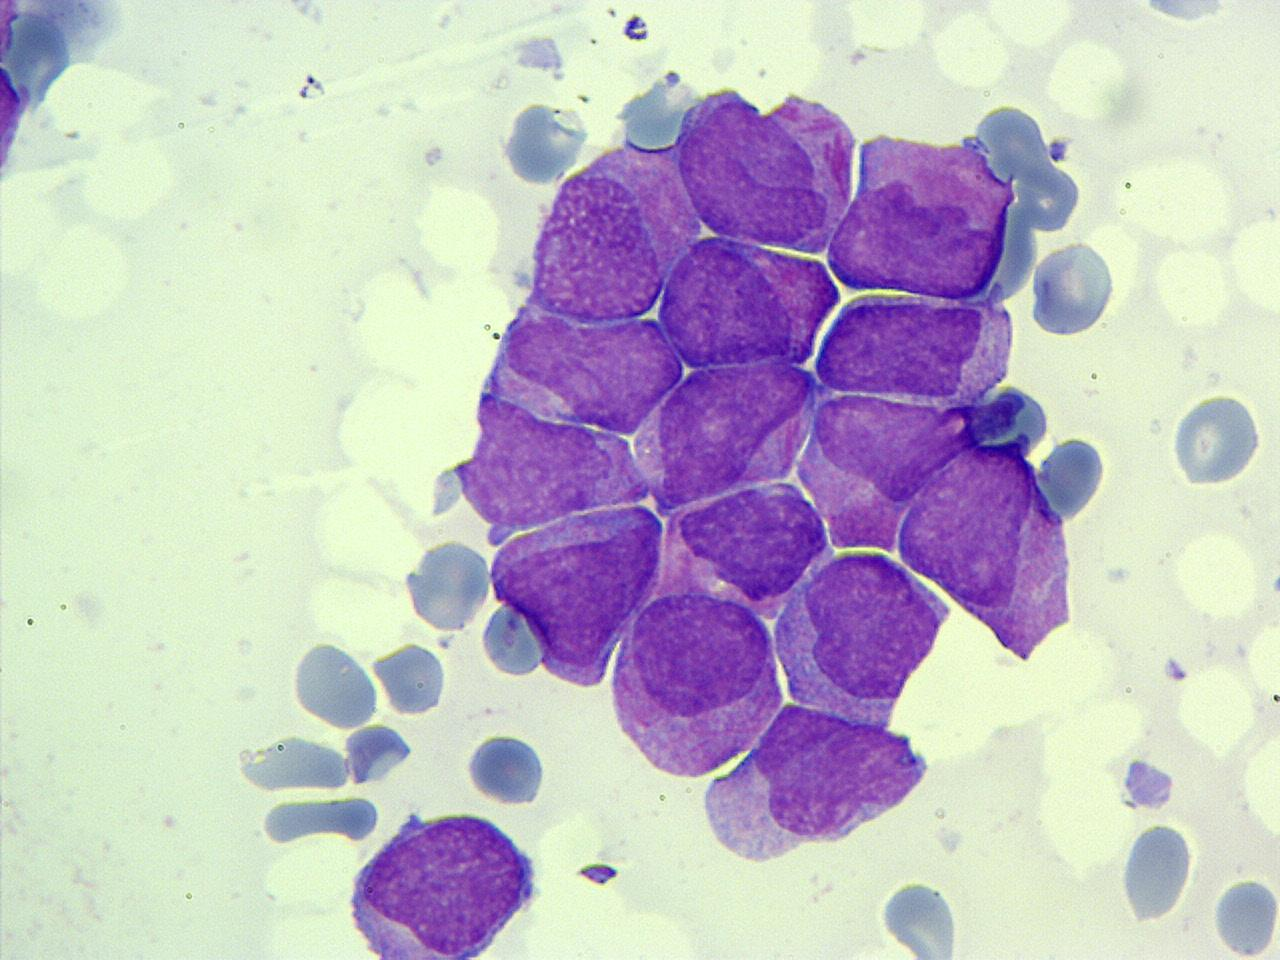Platelets: (876, 878, 962, 958), (1209, 874, 1277, 960), (1113, 754, 1177, 814), (506, 31, 566, 74), (1134, 1, 1234, 25), (574, 860, 620, 886), (1161, 654, 1189, 686), (1048, 136, 1072, 164), (1268, 570, 1280, 596)
RBC: (654, 236, 834, 376), (1146, 229, 1242, 334), (1169, 388, 1267, 489), (1027, 238, 1119, 341), (287, 634, 378, 732), (926, 7, 1014, 89)
WBC: (380, 25, 1136, 820), (892, 386, 1112, 668), (692, 692, 940, 872), (826, 110, 1027, 307), (603, 585, 785, 777), (670, 86, 858, 260), (770, 544, 950, 722), (340, 804, 545, 960), (0, 0, 135, 230), (650, 232, 840, 380), (1167, 387, 1267, 489), (1030, 233, 1120, 346), (399, 536, 494, 634), (289, 634, 381, 731), (497, 96, 593, 188), (1115, 819, 1197, 926), (463, 730, 548, 806), (478, 598, 552, 680), (371, 642, 449, 718), (340, 721, 416, 788)
